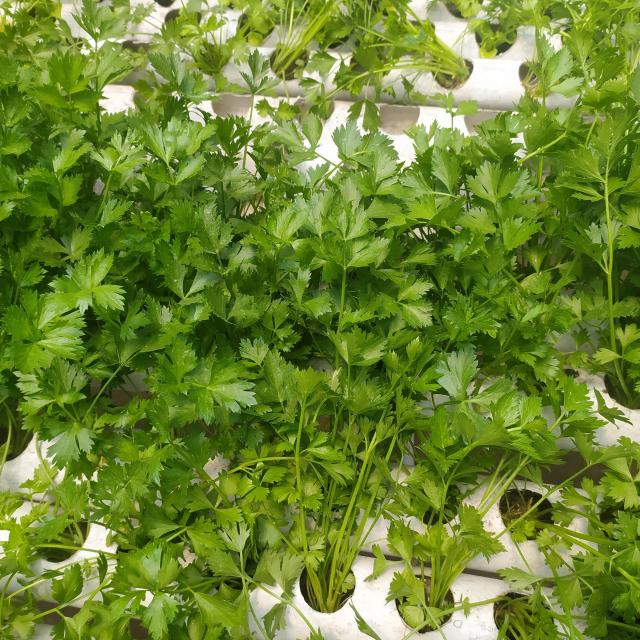Wet Waste: (206, 118, 639, 496), (9, 16, 193, 434), (219, 510, 620, 625), (10, 446, 197, 628)
